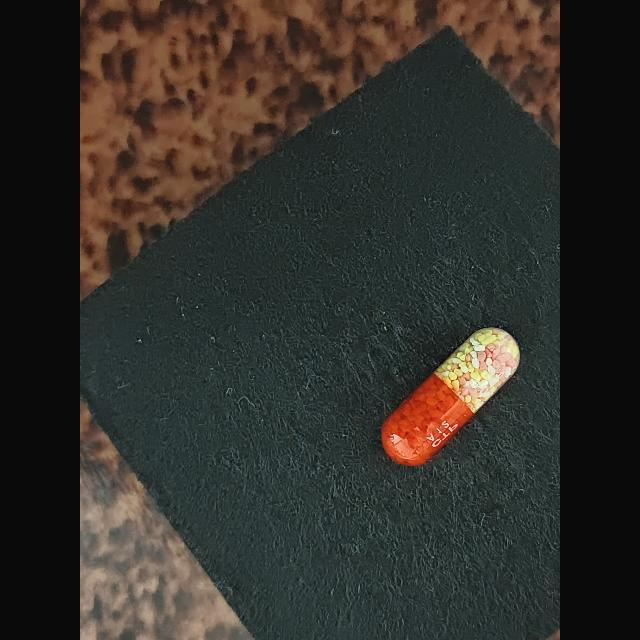Intact Capsule: (381, 328, 520, 466)
